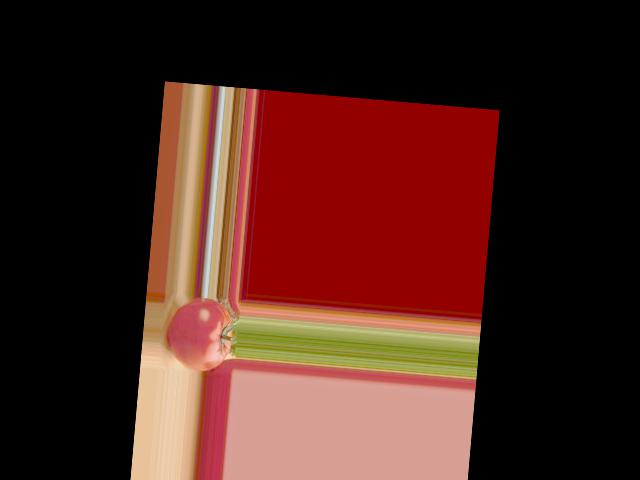tomato: (165, 295, 234, 373)
